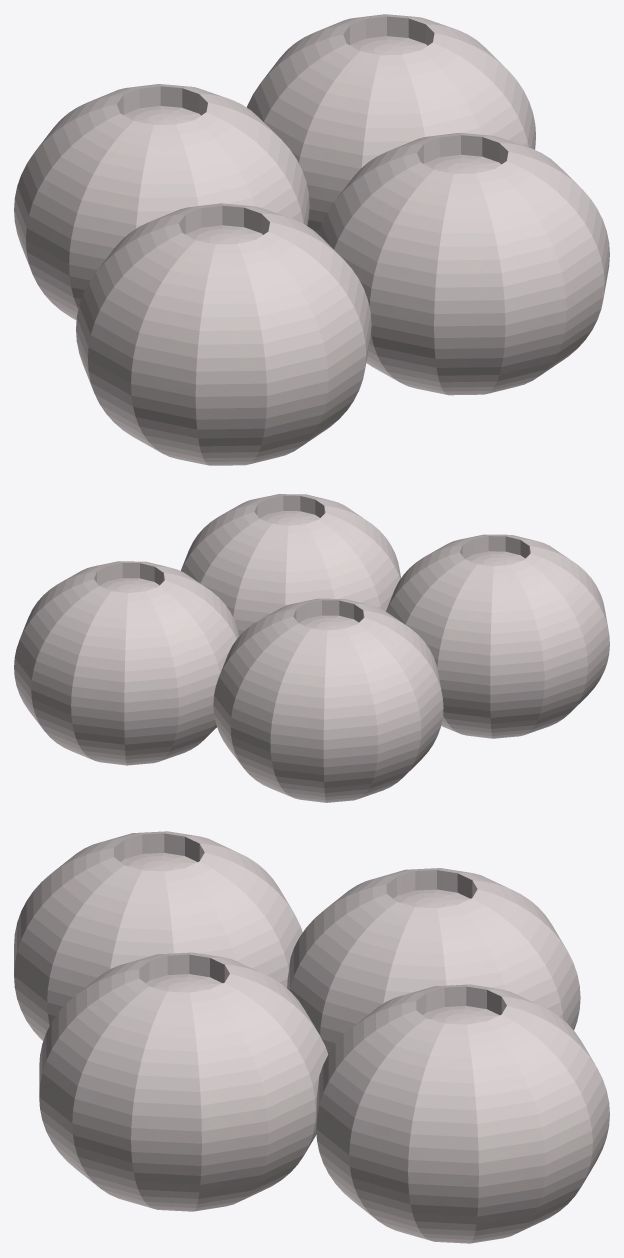
File: huevos_caligo_memnon.fbx
The picture shows the model from 3 angles, top to bottom: view 1: azimuth 30°, elevation 25°; view 2: azimuth 150°, elevation 25°; view 3: azimuth 270°, elevation 25°; orthographic projection. The views are drawn at different scales.
Parts seen in each view (by area): view 1: Sphere, Sphere.001, Sphere.003, Sphere.002; view 2: Sphere.003, Sphere.002, Sphere, Sphere.001; view 3: Sphere.002, Sphere.001, Sphere, Sphere.003.
Boxes of the visible parts, x1,y1,x2,y2 form: Sphere: (76, 203, 371, 465); Sphere.001: (318, 132, 609, 395); Sphere.003: (14, 84, 309, 320); Sphere.002: (247, 14, 535, 233); Sphere.003: (213, 598, 443, 802); Sphere.002: (14, 561, 238, 765); Sphere: (386, 534, 609, 738); Sphere.001: (181, 494, 400, 636); Sphere.002: (316, 984, 609, 1243); Sphere.001: (39, 952, 328, 1211); Sphere: (14, 831, 302, 1040); Sphere.003: (287, 868, 580, 1053).
Size of the model in its own units: 379 by 142 by 346.
Materials: 1 (1 with a texture image).
